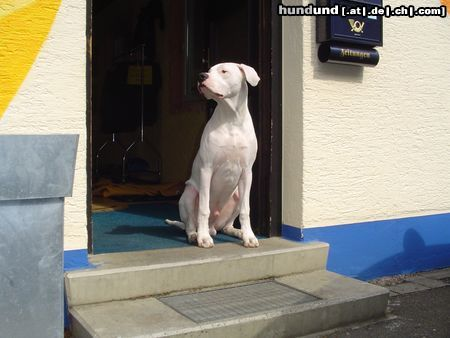dogo_argentino: (165, 62, 261, 249)
